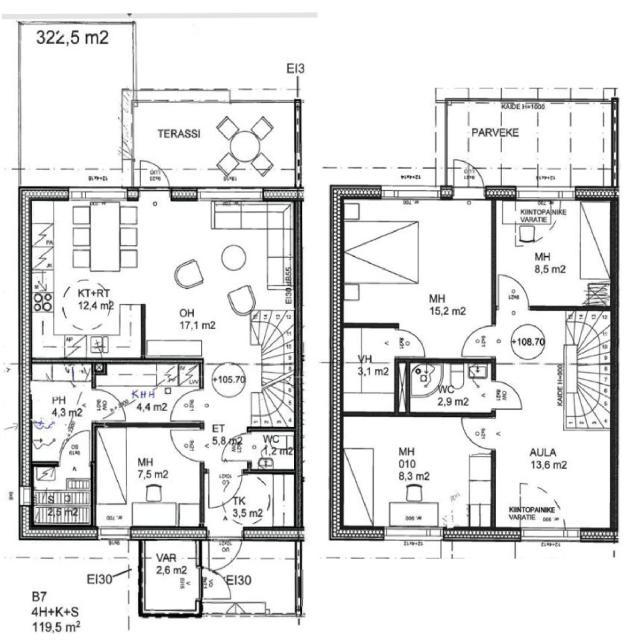door: (340, 322, 414, 411), (31, 362, 93, 464), (457, 413, 499, 453), (494, 271, 535, 311), (448, 157, 487, 199), (196, 565, 236, 603), (168, 424, 206, 464), (457, 322, 498, 359), (487, 376, 528, 413), (206, 471, 242, 511), (391, 324, 429, 361), (208, 534, 243, 574), (90, 386, 128, 422), (168, 387, 205, 423), (136, 156, 172, 192), (58, 427, 95, 462), (220, 430, 252, 464), (95, 525, 132, 544)
window: (60, 181, 132, 206), (191, 183, 268, 206), (516, 523, 583, 547), (377, 184, 442, 206), (380, 525, 442, 545), (95, 526, 132, 544), (147, 536, 195, 546), (17, 483, 36, 508)
zone: (137, 200, 299, 358), (343, 198, 496, 352), (16, 21, 134, 192), (28, 194, 144, 359), (339, 412, 494, 532), (130, 98, 302, 186), (445, 100, 595, 191), (493, 200, 613, 308), (494, 423, 610, 532), (94, 423, 200, 532), (92, 360, 201, 423), (342, 203, 420, 289), (30, 361, 93, 465), (339, 325, 400, 415), (401, 359, 496, 414), (141, 540, 201, 616), (32, 463, 91, 528), (246, 428, 296, 472)
